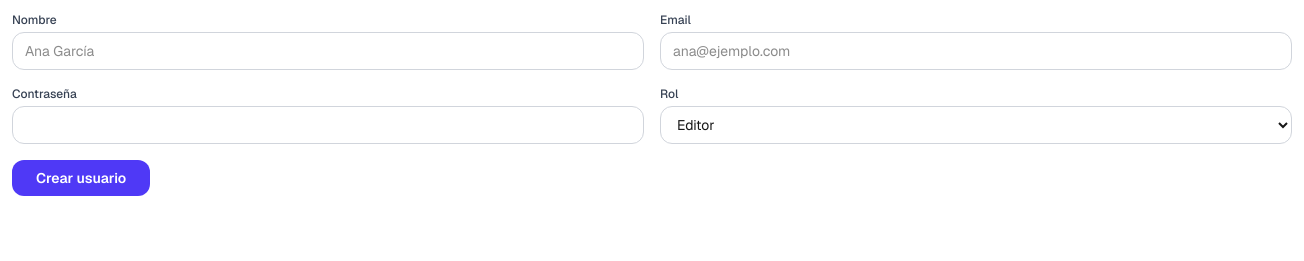
Test: CreateUserForm › shows success message and refreshes on success
Type "Juan" into the field with placeholder "Ana García".
click(328, 51); type("Juan")  # box [12,32,644,70]
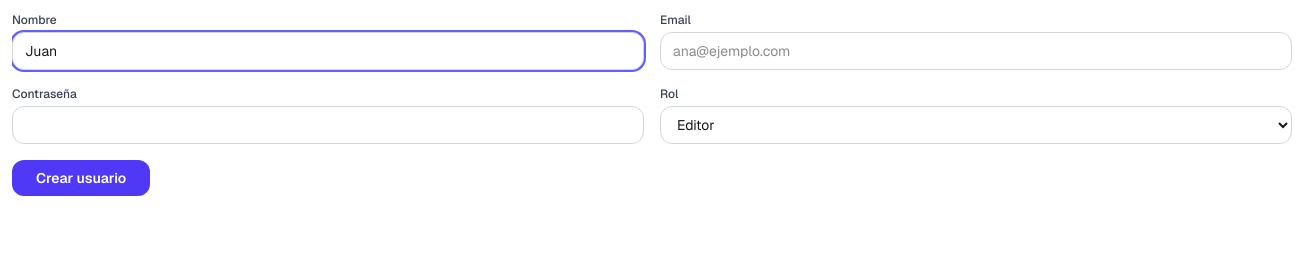
Type "juan@test.com" into the field with placeholder "ana@ejemplo.com".
click(976, 51); type("juan@test.com")  # box [660,32,1292,70]
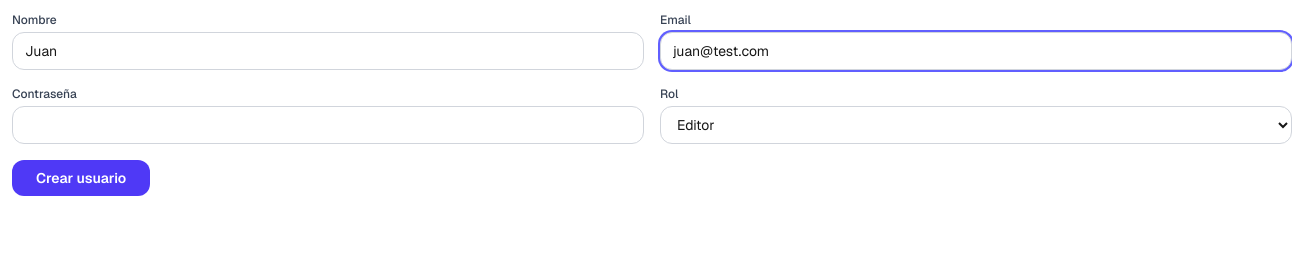
Type "secret123" into the password field named "password".
click(328, 125); type("secret123")  # box [12,106,644,144]
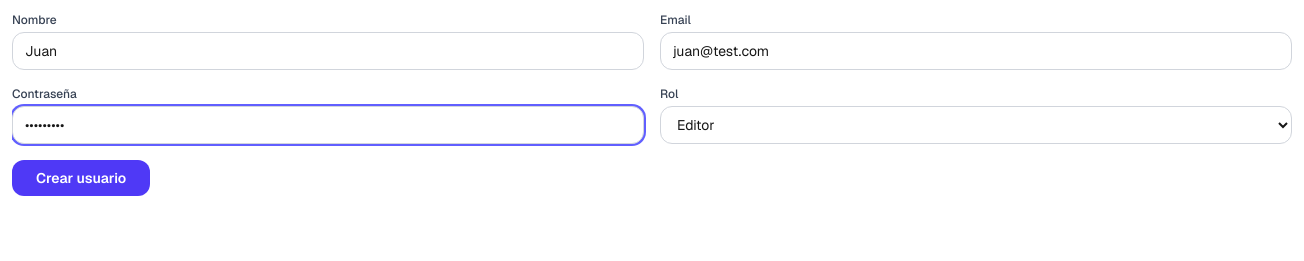
Click the button "Crear usuario".
click(81, 178)  # box [12,160,150,196]
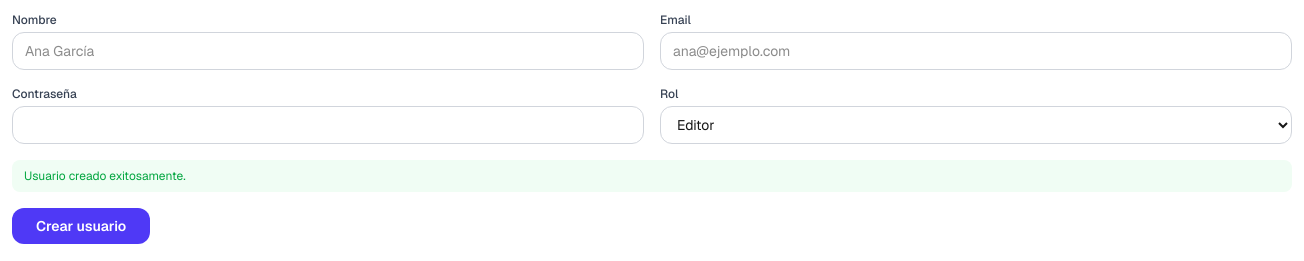
Result: the text "Usuario creado exitosamente." is shown at [12,160,1292,192]
